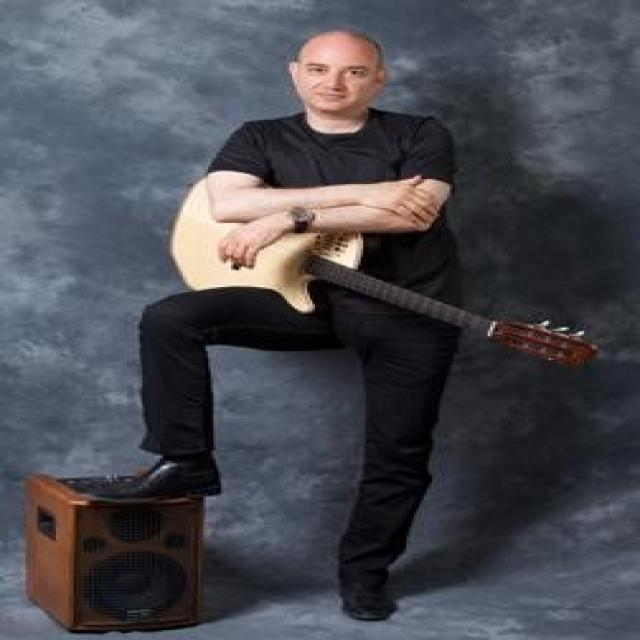guitar: (173, 174, 603, 374)
